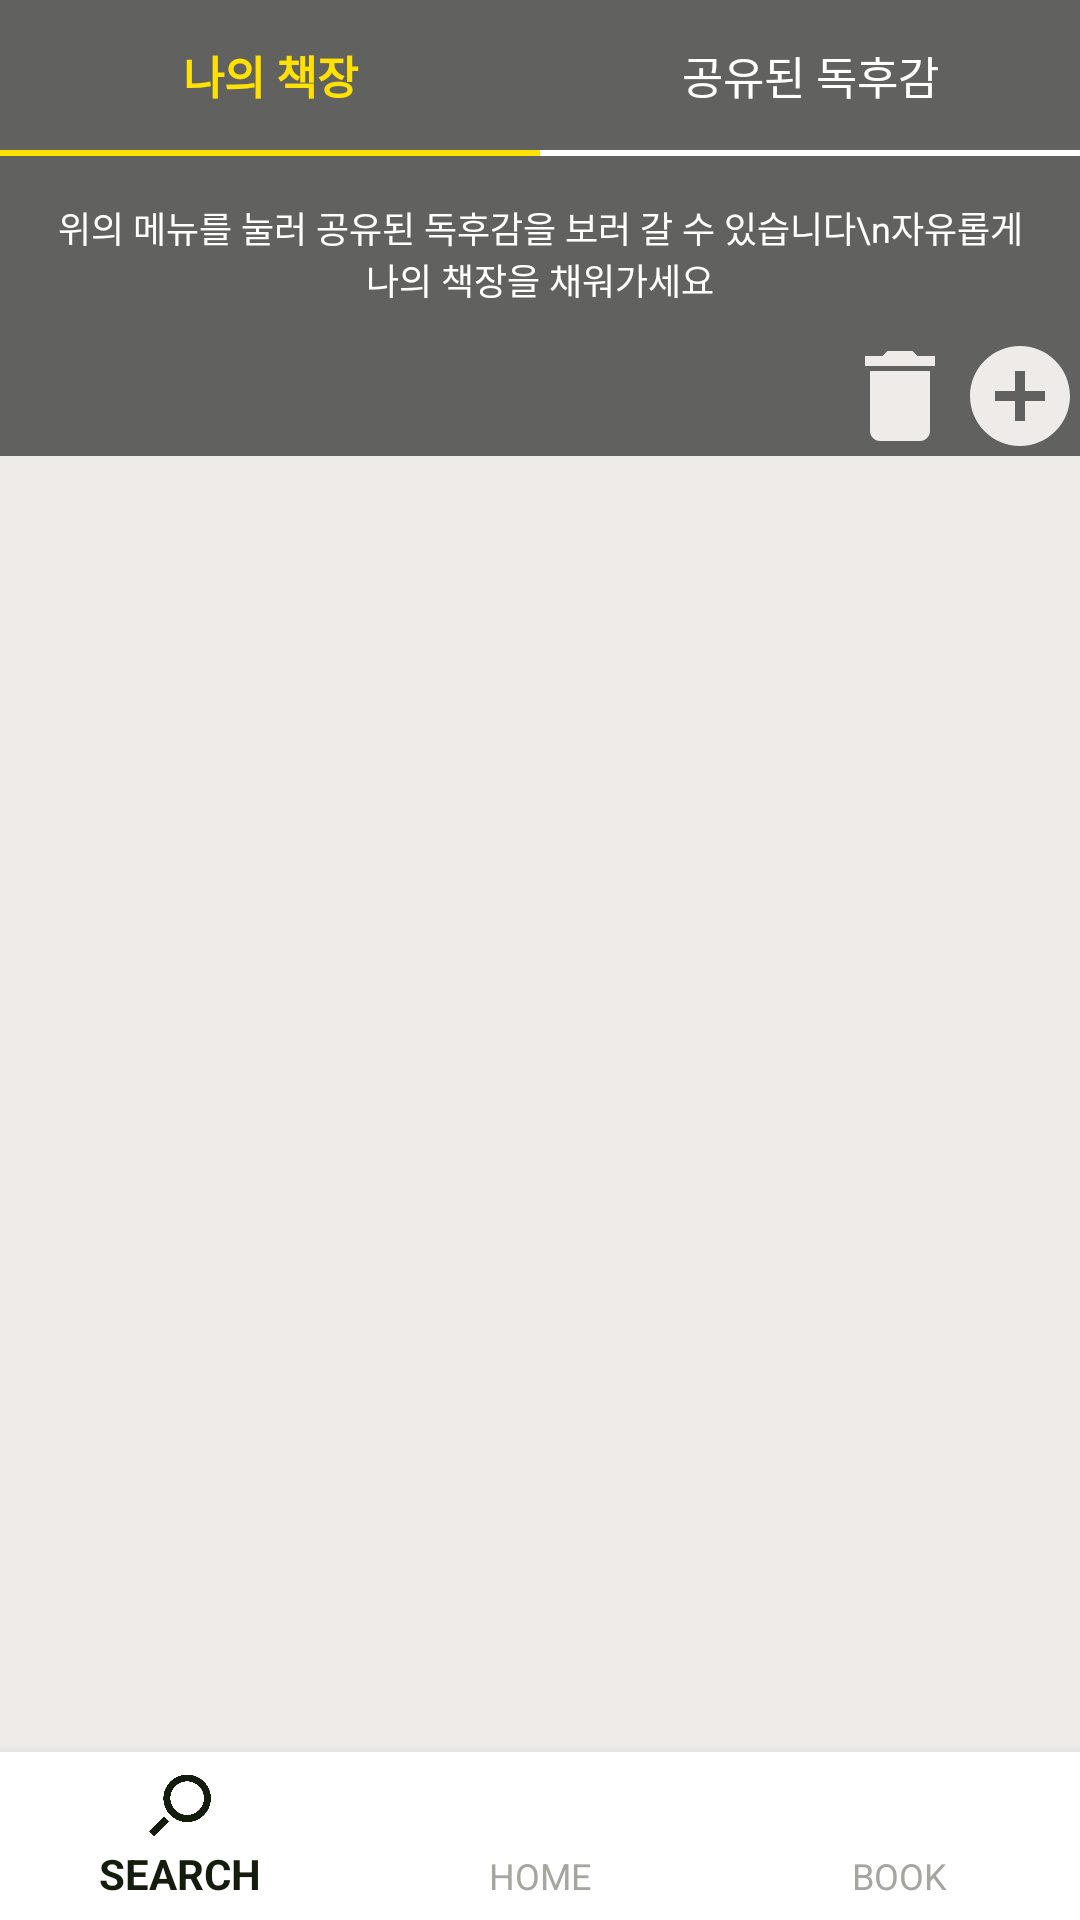

Where to tap for icons on this 1080×1920 app screen, as point (x, y):
add circle: point (1020, 396)
